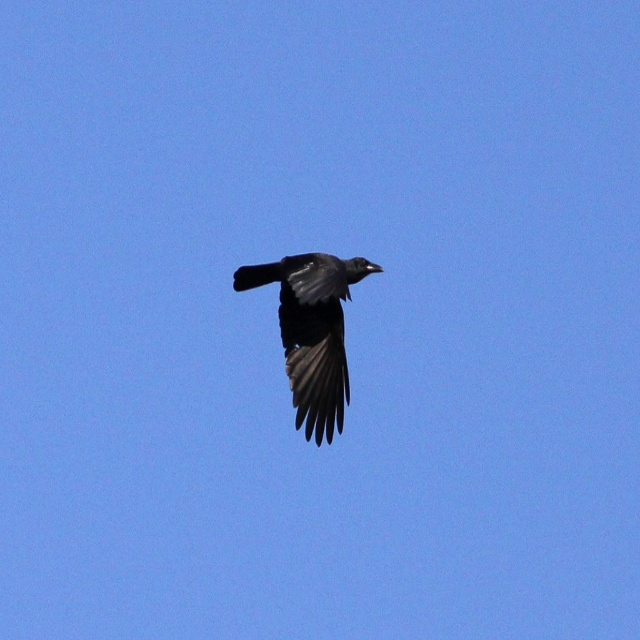Raven: (235, 241, 389, 448)
